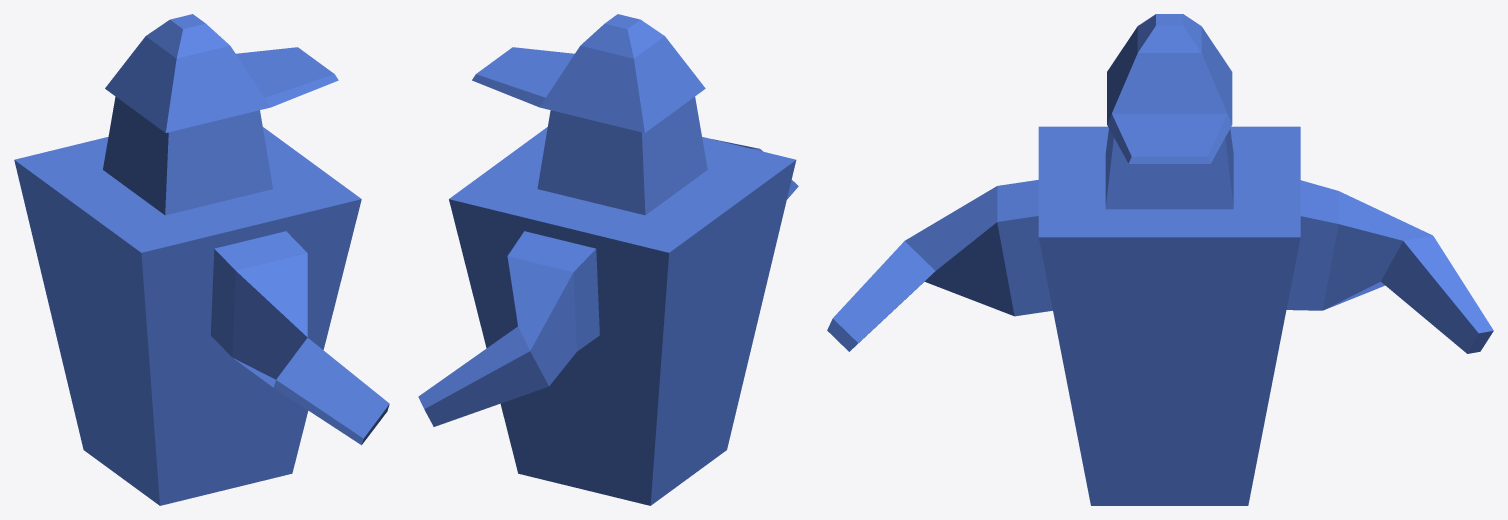
Rendered from machoman.fbx.
The picture shows the model from 3 angles, left to right: view 1: azimuth 30°, elevation 25°; view 2: azimuth 150°, elevation 25°; view 3: azimuth 270°, elevation 25°; orthographic projection. The views are drawn at different scales.
Parts seen in each view (by area): view 1: Machoman; view 2: Machoman; view 3: Machoman.
Boxes of the visible parts, x1=… form: Machoman: x1=14, y1=14, x2=389, y2=505; Machoman: x1=418, y1=14, x2=798, y2=505; Machoman: x1=827, y1=14, x2=1493, y2=505.
Size of the model in its own units: 48.06 by 83.84 by 112.
